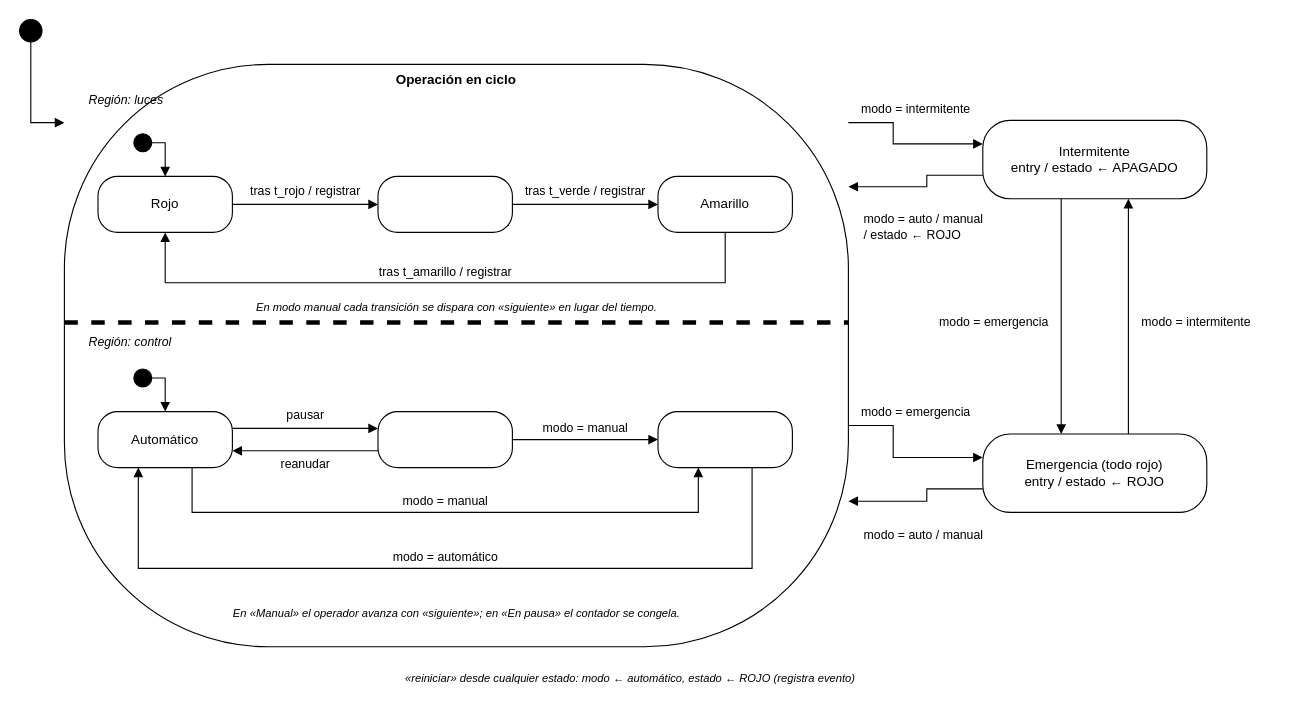
This 1306x708 diagram has some shape labels left out. Each missing label, with the centre of its shape:
"En pausa" goes at point 444,439.
"Manual" goes at point 724,439.
"Verde" goes at point 444,203.
